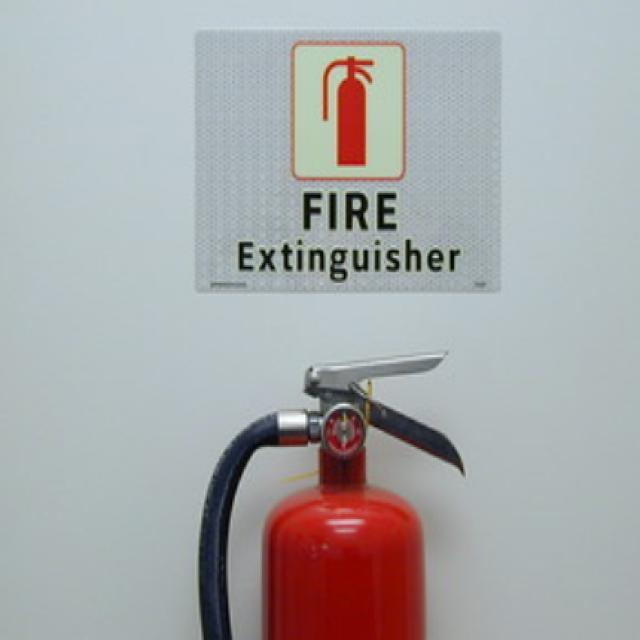fire extinguisher: (169, 319, 514, 640)
fire signage: (187, 15, 510, 295)
